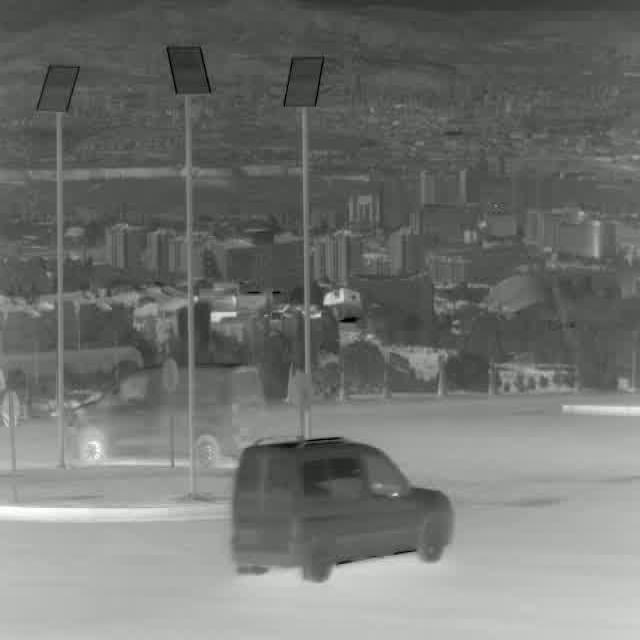Car: (234, 438, 455, 578), (66, 365, 261, 466)
